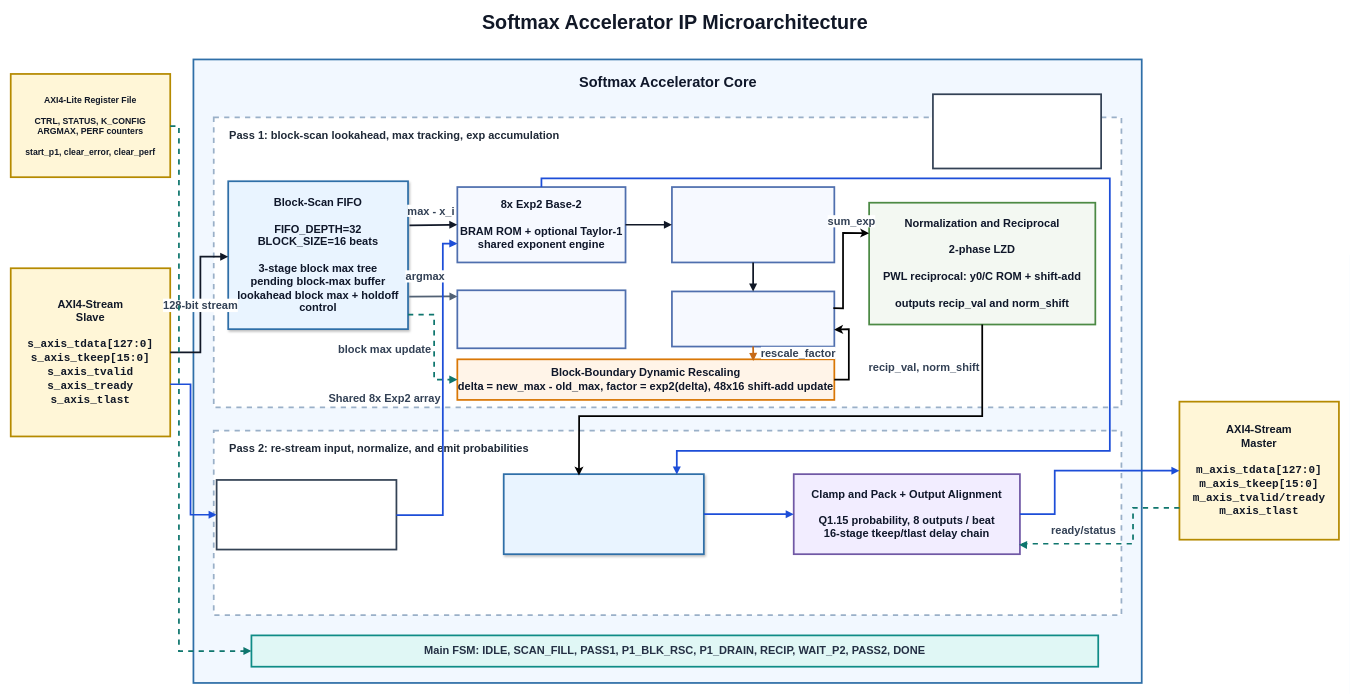
Image size: 1350x694. Some labels were removed from this diagram. Here are the shapes that lost their labels. From the top down, the centre of each, then its label:
(1017,131): Legend ■ Pass 1 data bus ■ Pass 2 data bus - - - control/status
(753,224): CSA + CLA Adder 8-input parallel sum (32-bit internal)
(541,319): Argmax Tracker 2-stage 8-to-1 max tree
(753,318): sum_exp Register 48-bit
(306,514): Re-stream Input second DMA pass, auto_p2_en
(604,515): 8x Booth Radix-4 no-DSP multipliers exp_val x recip_val >> norm_shift
